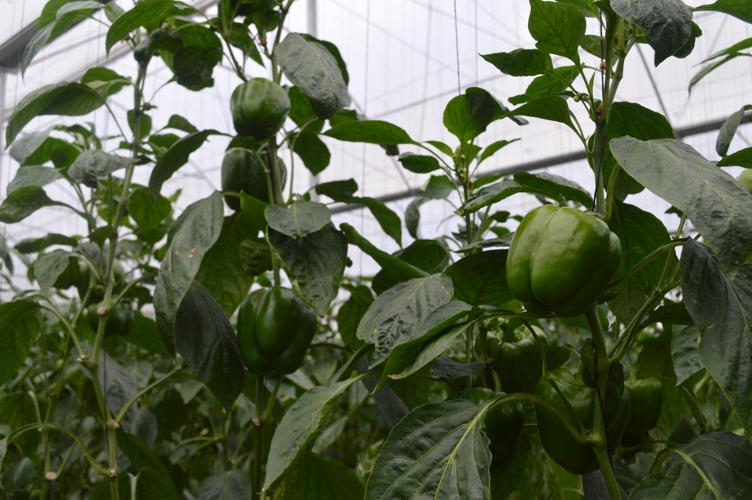BellPepper: (505, 205, 620, 313), (530, 368, 629, 468), (235, 285, 323, 379), (457, 388, 527, 467), (480, 318, 548, 382), (224, 78, 294, 138), (219, 151, 284, 206), (620, 376, 665, 429), (84, 301, 132, 338)
